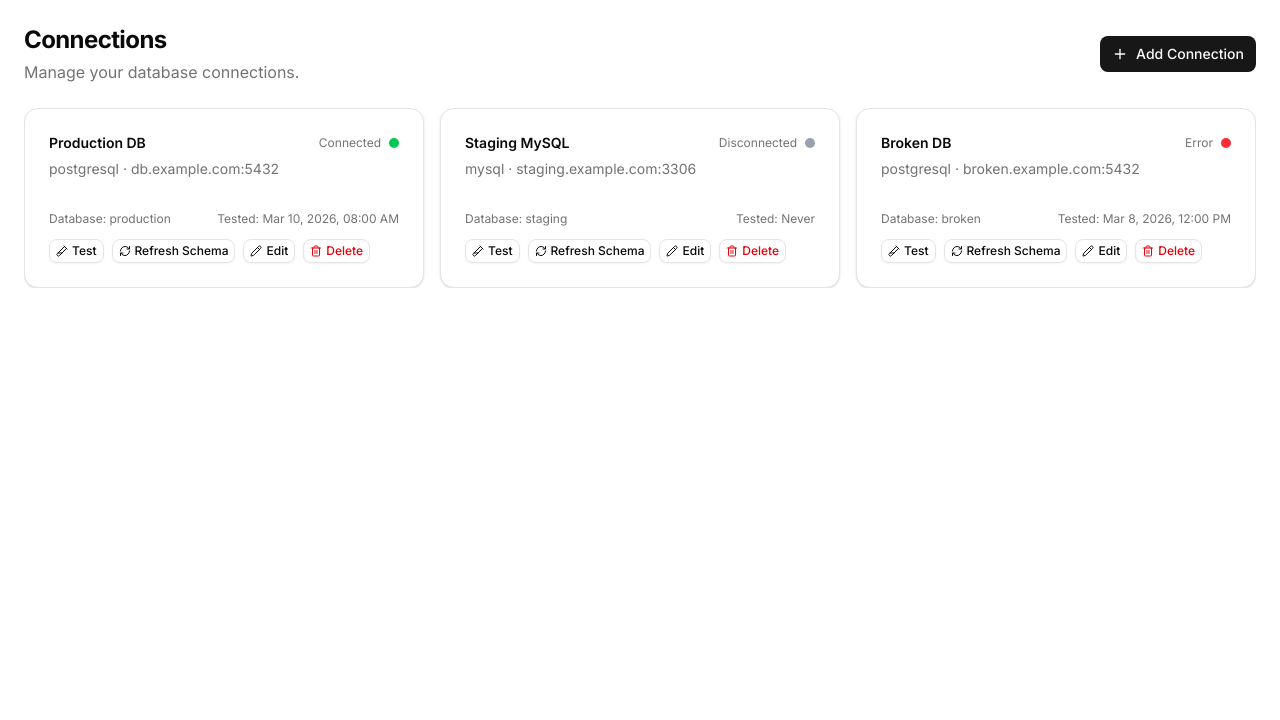
Test: ConnectionsPage › action buttons › closes delete confirmation dialog when cancel is clicked
Step 1. Click the button with test id "delete-button" → (337, 251), box [303, 239, 370, 263]
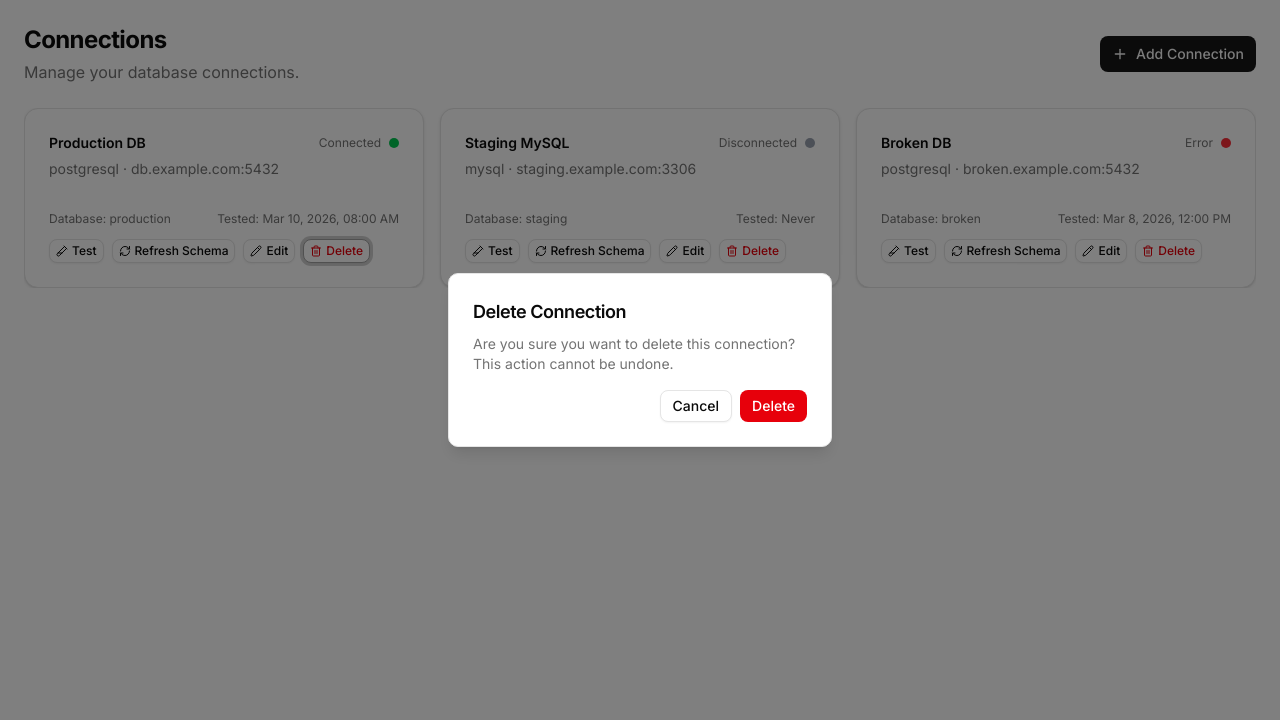
Now the element with test id "delete-confirmation" is shown
Step 2. Click the button "Cancel" → (696, 406), box [660, 390, 732, 422]
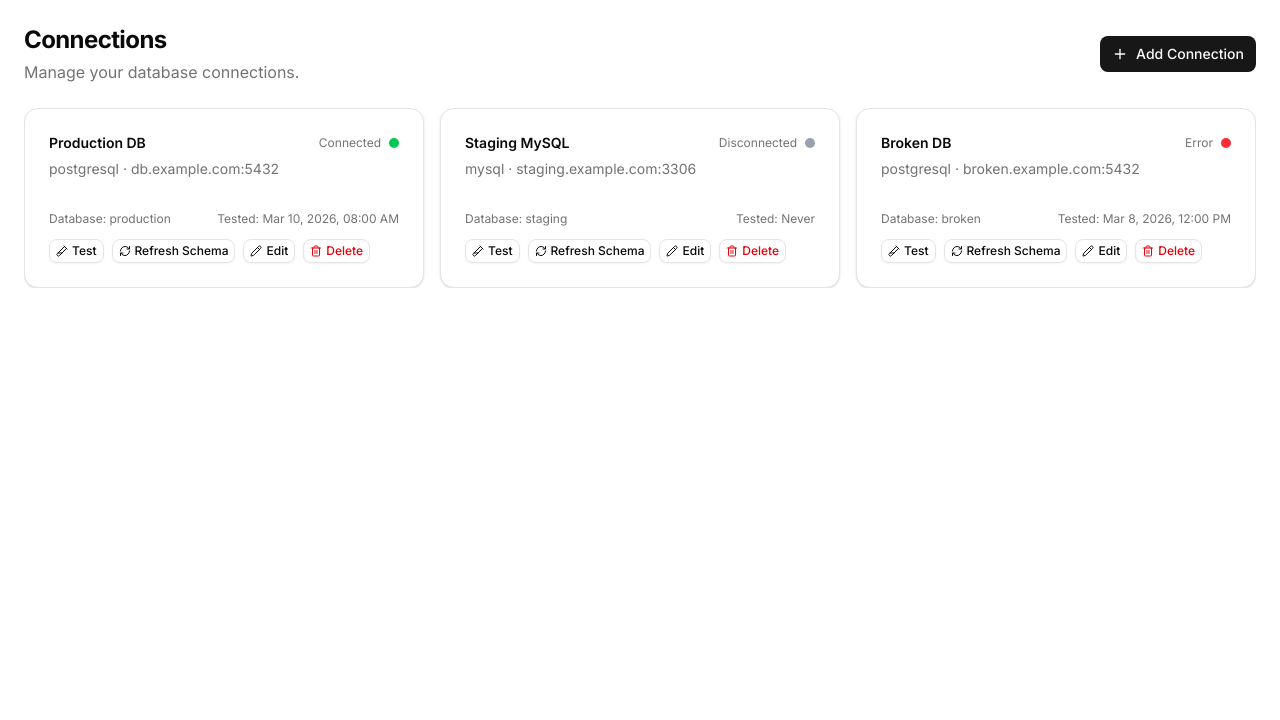
Now the element with test id "delete-confirmation" is gone
